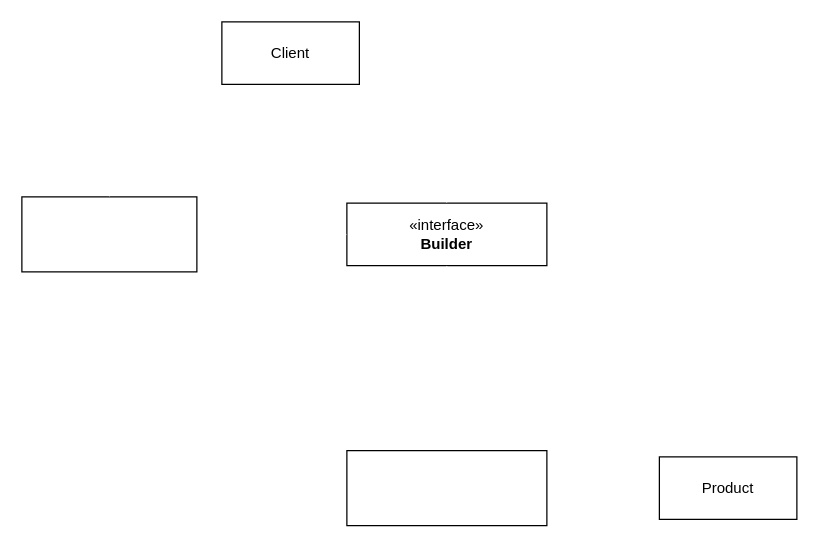
Image size: 819x548. Some labels were removed from this diagram. Here are the shapes that lost their labels. From the top down, the centre of each, then its label:
At [109,234]: "Director + void constructor()".
At [446,487]: "ConcreteBuilder".
